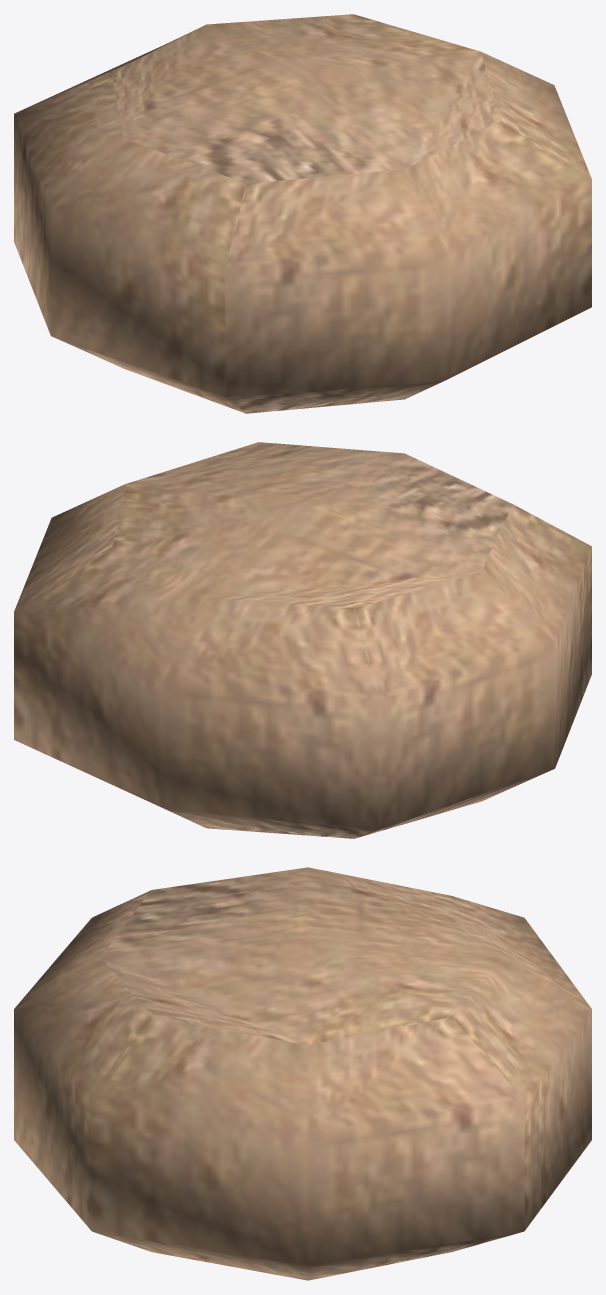
Rendered from Rock_V4.glb.
The picture shows the model from 3 angles, top to bottom: view 1: azimuth 30°, elevation 25°; view 2: azimuth 150°, elevation 25°; view 3: azimuth 270°, elevation 25°; orthographic projection. The views are drawn at different scales.
Visible parts, largest first — view 1: ROCK_V4; view 2: ROCK_V4; view 3: ROCK_V4.
Boxes of the visible parts, left/top/right/bottom form: ROCK_V4: left=14, top=14, right=591, bottom=413; ROCK_V4: left=14, top=442, right=591, bottom=838; ROCK_V4: left=14, top=867, right=591, bottom=1280.
Bounding box in the file's own units: 0.687 × 0.328 × 0.668.
Materials: 1 (1 with a texture image).
